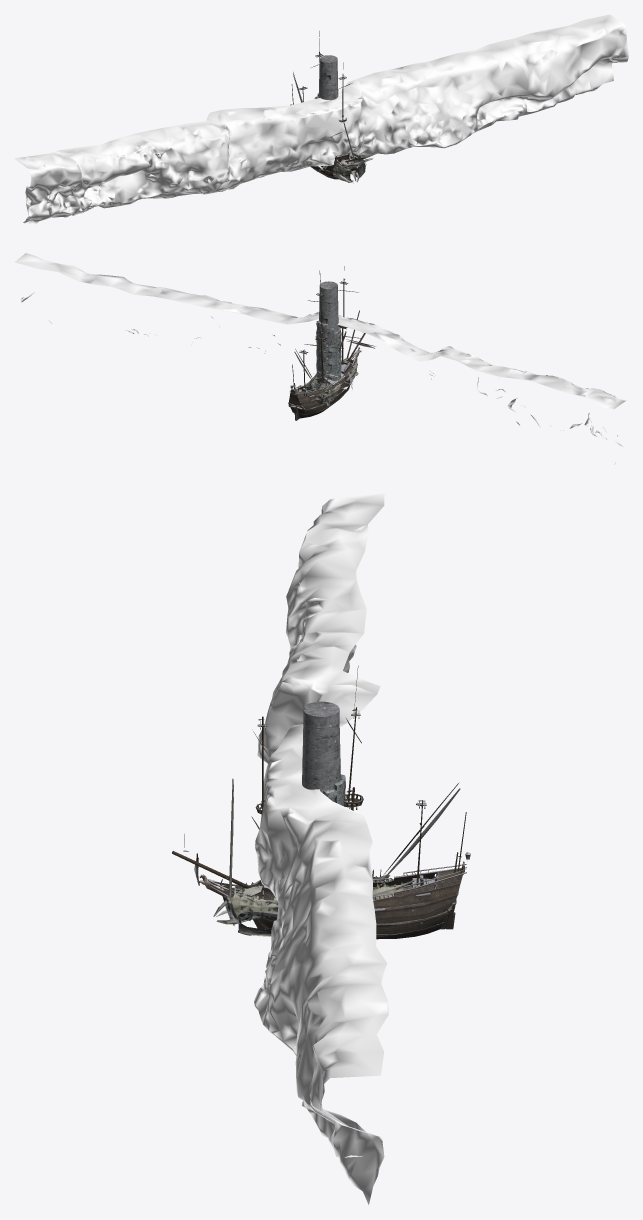
File: rime.glb
3 views of the same model, one above another, from view 1: azimuth 30°, elevation 25°; view 2: azimuth 150°, elevation 25°; view 3: azimuth 270°, elevation 25° (orthographic). The views are drawn at different scales.
Visible parts, largest first — view 1: coastal_cliff_01, stack, dutch_ship_medium_rigging, Vrak_material0_0, dutch_ship_medium_hull; view 2: coastal_cliff_01, stack (×2), dutch_ship_medium_hull, dutch_ship_medium_rigging, Vrak_material0_0; view 3: coastal_cliff_01, dutch_ship_medium_hull, stack, dutch_ship_medium_rigging, Vrak_material0_0.
Boxes of the visible parts, left/top/right/bottom form: coastal_cliff_01: left=14, top=14, right=628, bottom=224; stack: left=318, top=55, right=338, bottom=100; dutch_ship_medium_rigging: left=291, top=31, right=372, bottom=170; Vrak_material0_0: left=333, top=153, right=366, bottom=181; dutch_ship_medium_hull: left=290, top=104, right=359, bottom=179; coastal_cliff_01: left=15, top=253, right=626, bottom=464; stack (×2): left=316, top=281, right=341, bottom=385; dutch_ship_medium_hull: left=288, top=347, right=361, bottom=420; dutch_ship_medium_rigging: left=292, top=266, right=375, bottom=390; Vrak_material0_0: left=305, top=355, right=357, bottom=406; coastal_cliff_01: left=254, top=493, right=388, bottom=1204; dutch_ship_medium_hull: left=198, top=852, right=470, bottom=939; stack: left=302, top=701, right=340, bottom=792; dutch_ship_medium_rigging: left=172, top=665, right=466, bottom=891; Vrak_material0_0: left=220, top=869, right=414, bottom=936.
Bounding box in the file's own units: 92.04 × 20.47 × 19.95.
Materials: 23 (20 with a texture image).
